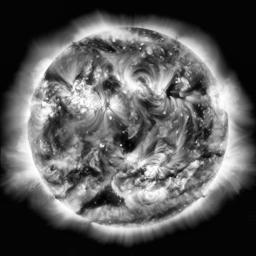solar flares: (67, 87, 102, 116), (119, 184, 161, 208), (100, 29, 139, 44), (124, 149, 141, 171), (152, 83, 169, 100), (120, 80, 139, 94), (210, 94, 223, 112)
sunspots: (186, 118, 210, 147), (49, 117, 68, 153), (86, 188, 117, 209), (114, 131, 135, 150), (87, 41, 112, 55), (189, 79, 204, 101), (142, 57, 159, 73), (75, 167, 97, 178), (106, 74, 119, 92), (167, 81, 179, 97), (45, 72, 65, 81)
